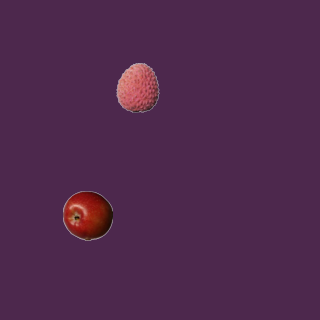Apple Braeburn: (62, 190, 112, 240)
Lychee: (112, 62, 162, 112)
